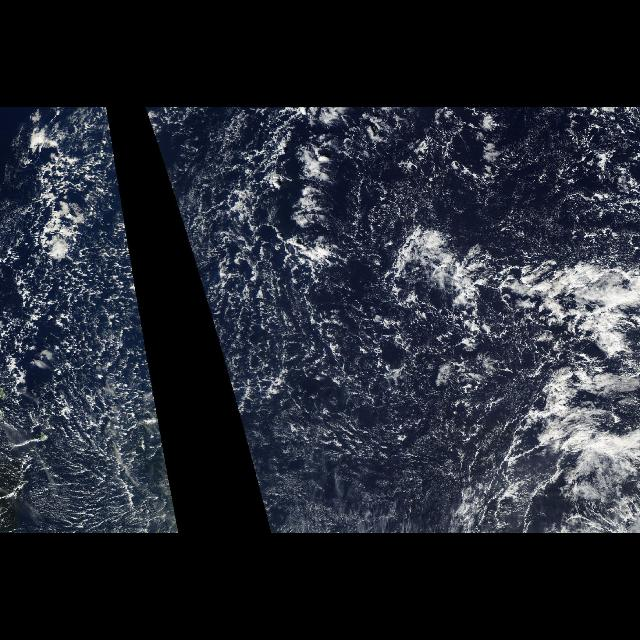Gravel: (152, 112, 570, 526), (6, 132, 178, 526)
